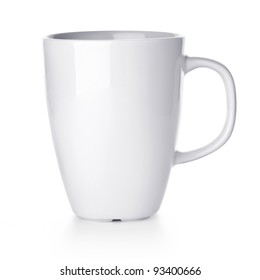cup: (40, 29, 236, 224)
